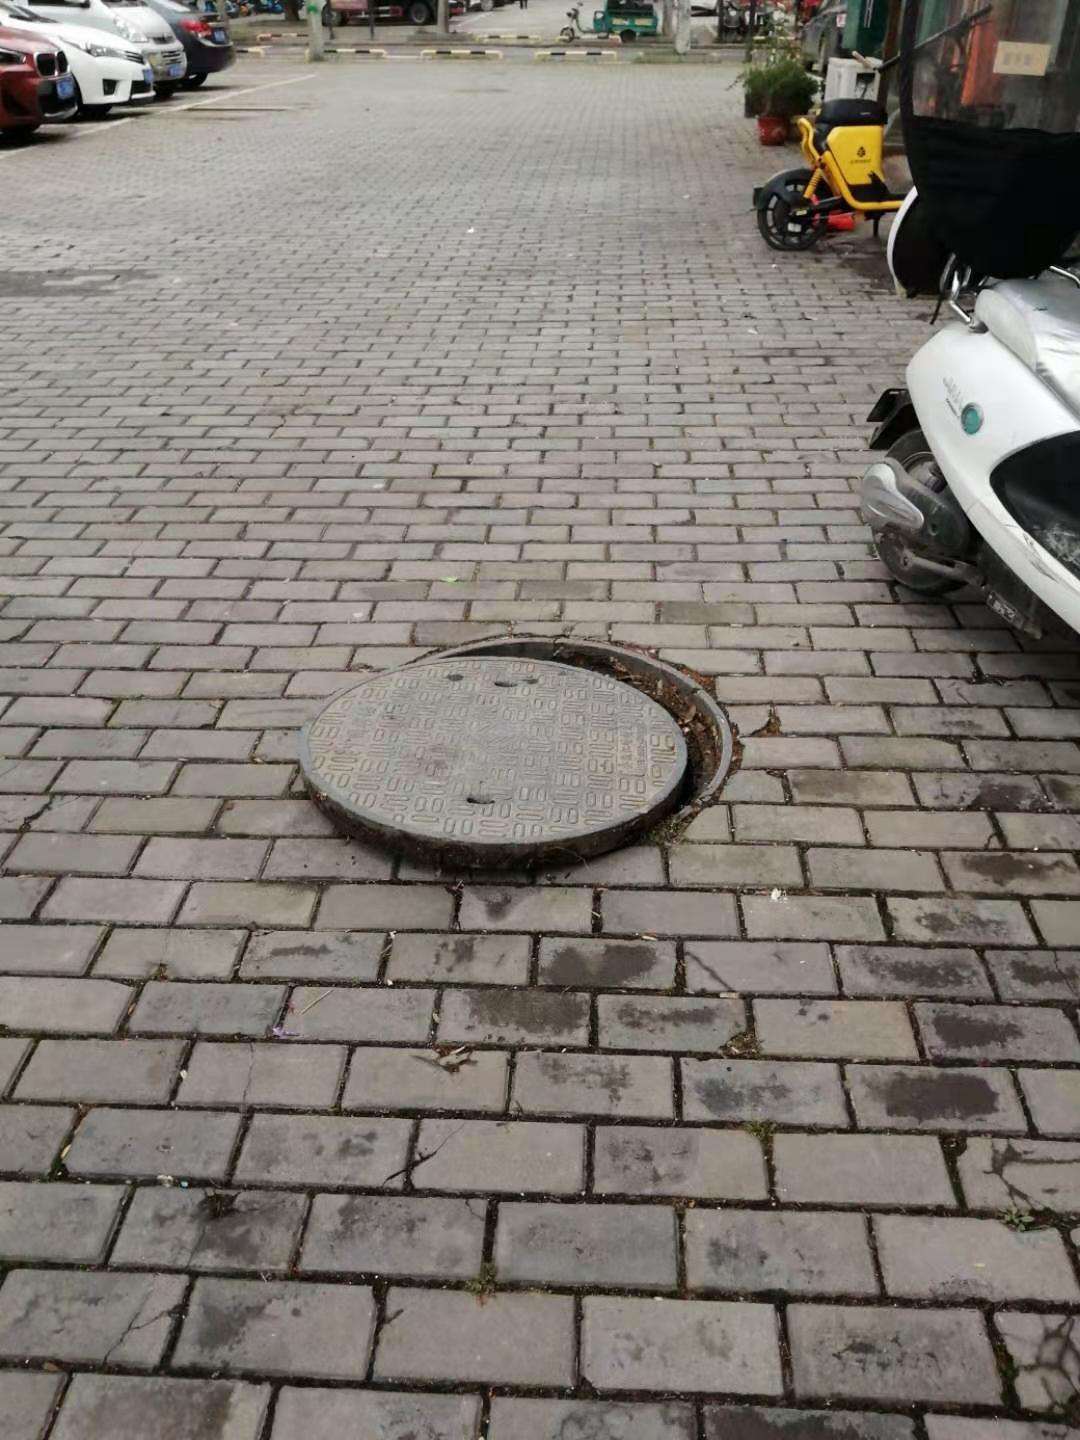wellcover: (230, 583, 771, 871)
